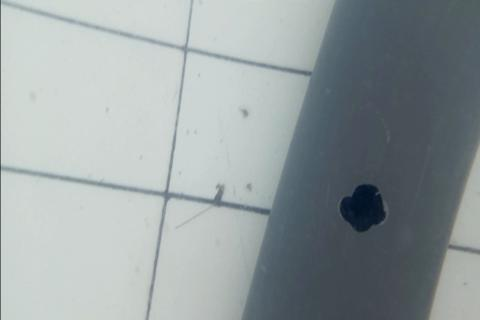kebocoran: (337, 180, 389, 235)
